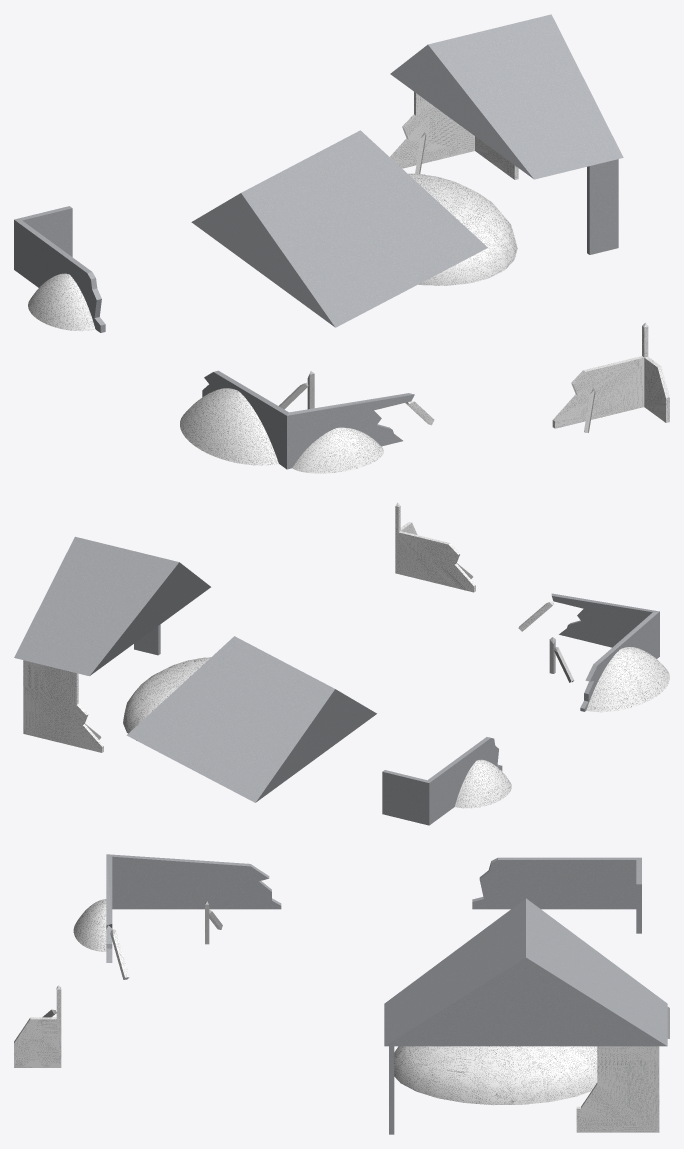
The model's file is Wall Sections.dae.
The picture shows the model from 3 angles, top to bottom: view 1: azimuth 30°, elevation 25°; view 2: azimuth 150°, elevation 25°; view 3: azimuth 270°, elevation 25°; orthographic projection. The views are drawn at different scales.
Parts seen in each view (by area): view 1: group_8, group_7, group_2, group_13, group_12, group_4, SketchUp, group_10, group_5, group_9, group_6; view 2: group_8, group_7, group_10, group_2, SketchUp, group_4, group_13, group_12, group_6, group_9; view 3: group_7, group_12, group_2, SketchUp, group_10, group_13, group_5, group_9.
Part boxes in pixels (x1,y1,x2,y2): group_8: (191, 130, 487, 327); group_7: (390, 14, 623, 179); group_2: (202, 370, 414, 469); group_13: (552, 322, 669, 428); group_12: (408, 173, 517, 285); group_4: (180, 388, 278, 465); SketchUp: (14, 206, 105, 332); group_10: (390, 92, 518, 179); group_5: (292, 427, 383, 473); group_9: (587, 159, 618, 254); group_6: (28, 273, 95, 331); group_8: (126, 636, 376, 802); group_7: (14, 536, 210, 676); group_10: (23, 660, 103, 752); group_2: (551, 593, 659, 711); SketchUp: (382, 737, 502, 825); group_4: (586, 647, 669, 712); group_13: (395, 502, 475, 592); group_12: (123, 657, 210, 740); group_6: (455, 759, 511, 808); group_9: (134, 624, 160, 655); group_7: (384, 898, 667, 1046); group_12: (394, 1046, 597, 1105); group_2: (106, 854, 281, 962); SketchUp: (472, 857, 641, 933); group_10: (576, 1046, 659, 1132); group_13: (14, 985, 61, 1067); group_5: (73, 899, 106, 951); group_9: (389, 1046, 394, 1134).
Size of the model in its own units: 1308 by 1446 by 457.
